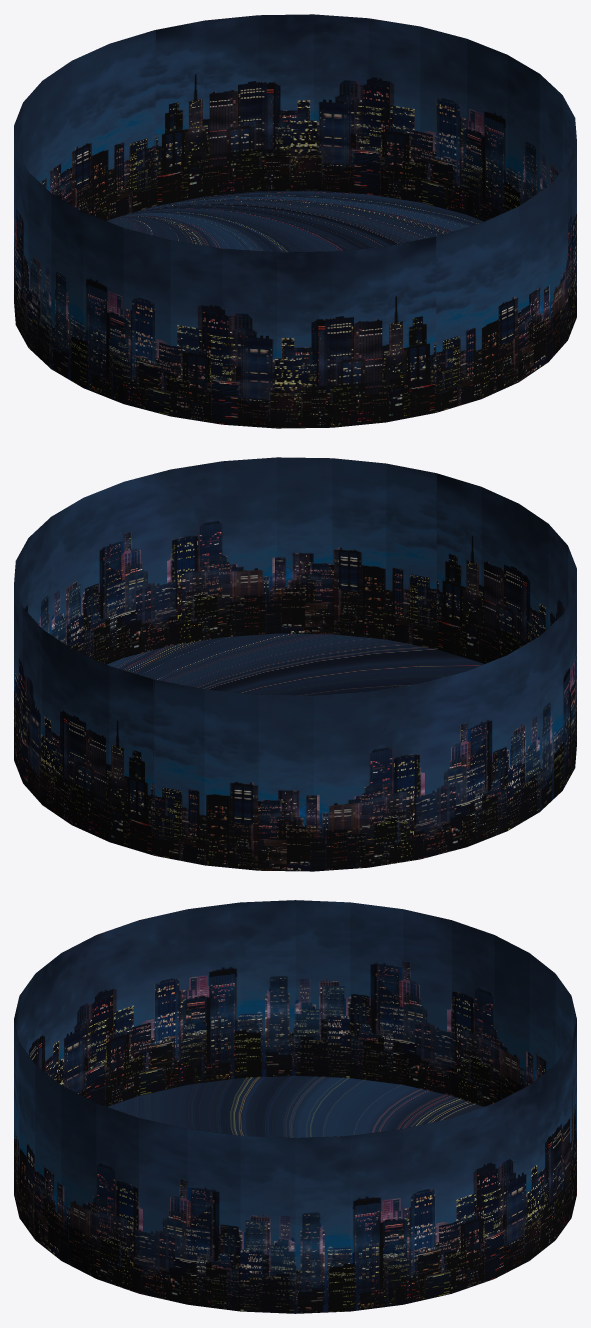
The model's file is chinatown skyscrapers round texturedmodel .fbx.
The picture shows the model from 3 angles, top to bottom: view 1: azimuth 30°, elevation 25°; view 2: azimuth 150°, elevation 25°; view 3: azimuth 270°, elevation 25°; orthographic projection.
Parts seen in each view (by area): view 1: Cylinder; view 2: Cylinder; view 3: Cylinder.
Boxes of the visible parts, x1,y1,x2,y2 form: Cylinder: (14,14,576,428); Cylinder: (14,457,576,871); Cylinder: (14,900,576,1313).
Size of the model in its own units: 22994 by 7923 by 22994.
Materials: 1 (1 with a texture image).
